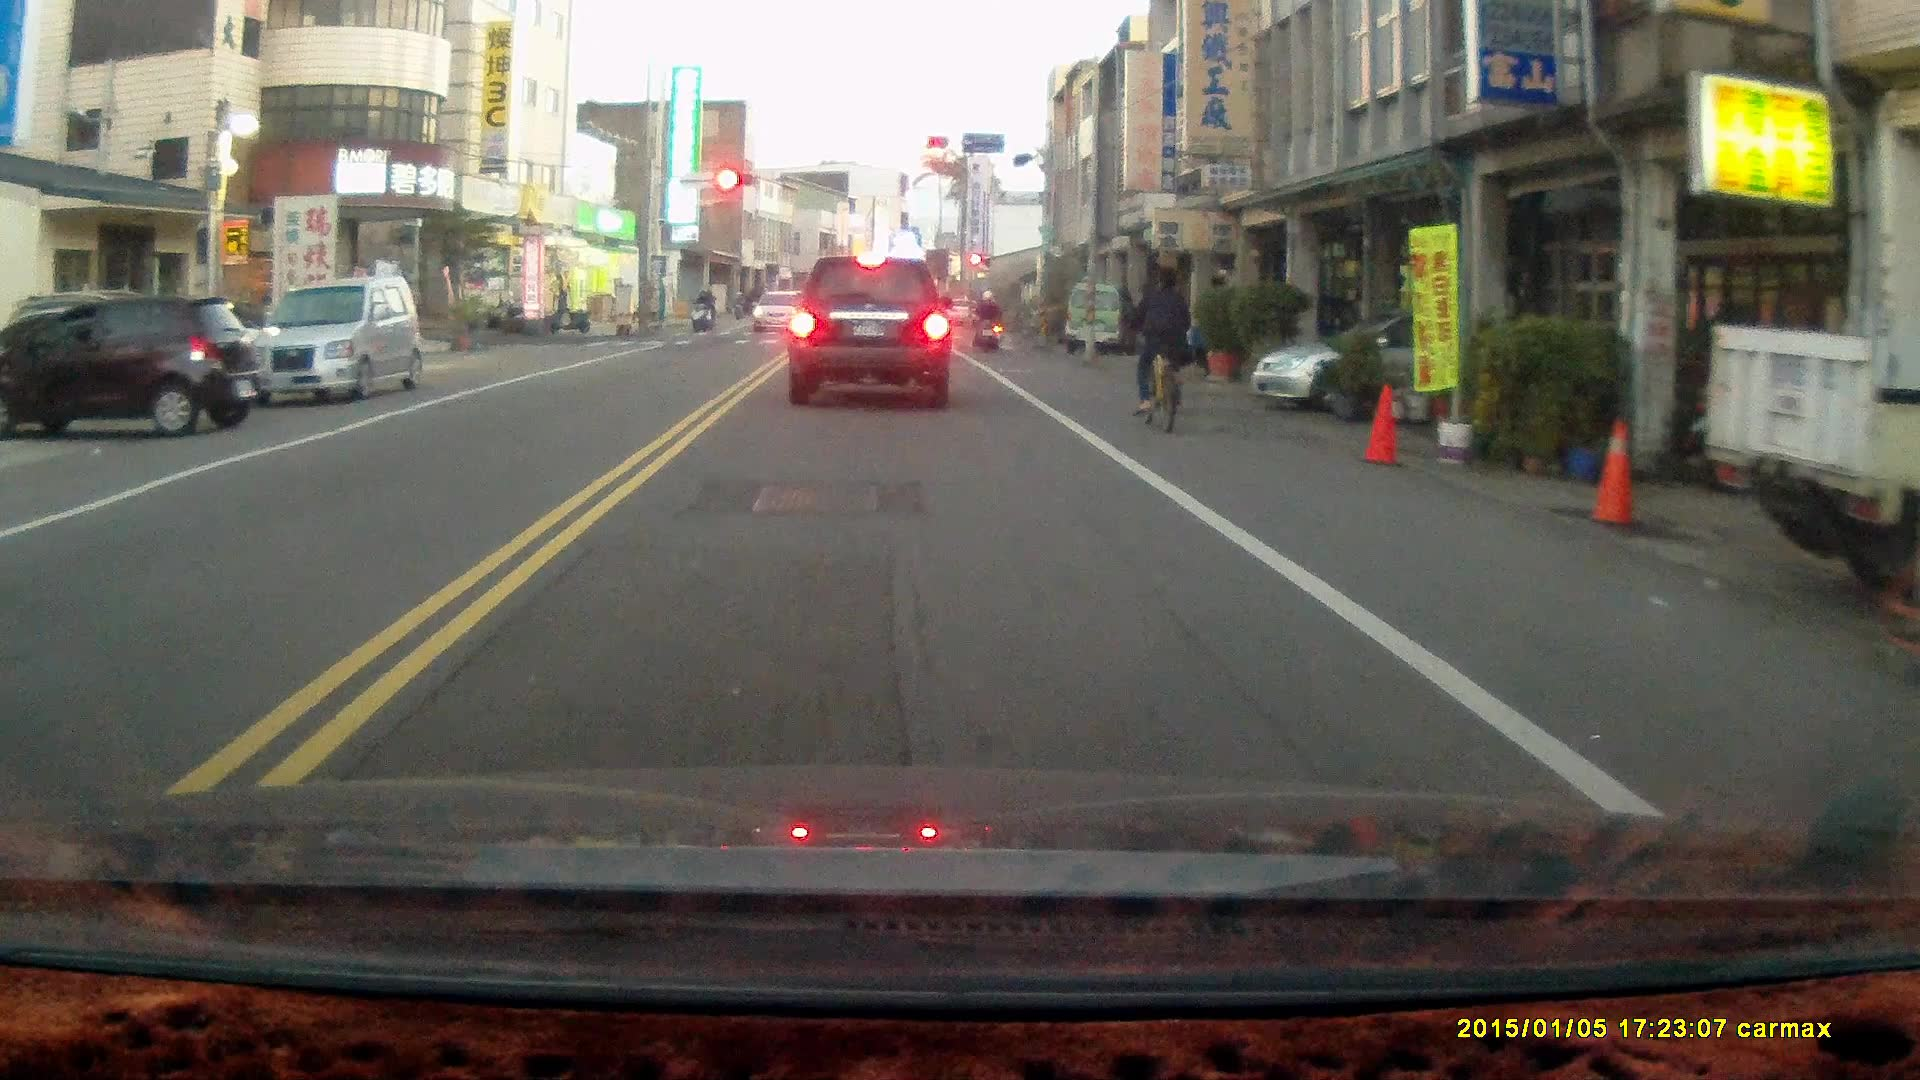rider: (1129, 266, 1193, 435), (970, 286, 1004, 353), (688, 285, 712, 334)
vehicle: (3, 292, 274, 442), (1246, 309, 1549, 417), (787, 254, 955, 412), (243, 277, 427, 404), (1063, 288, 1132, 363)
